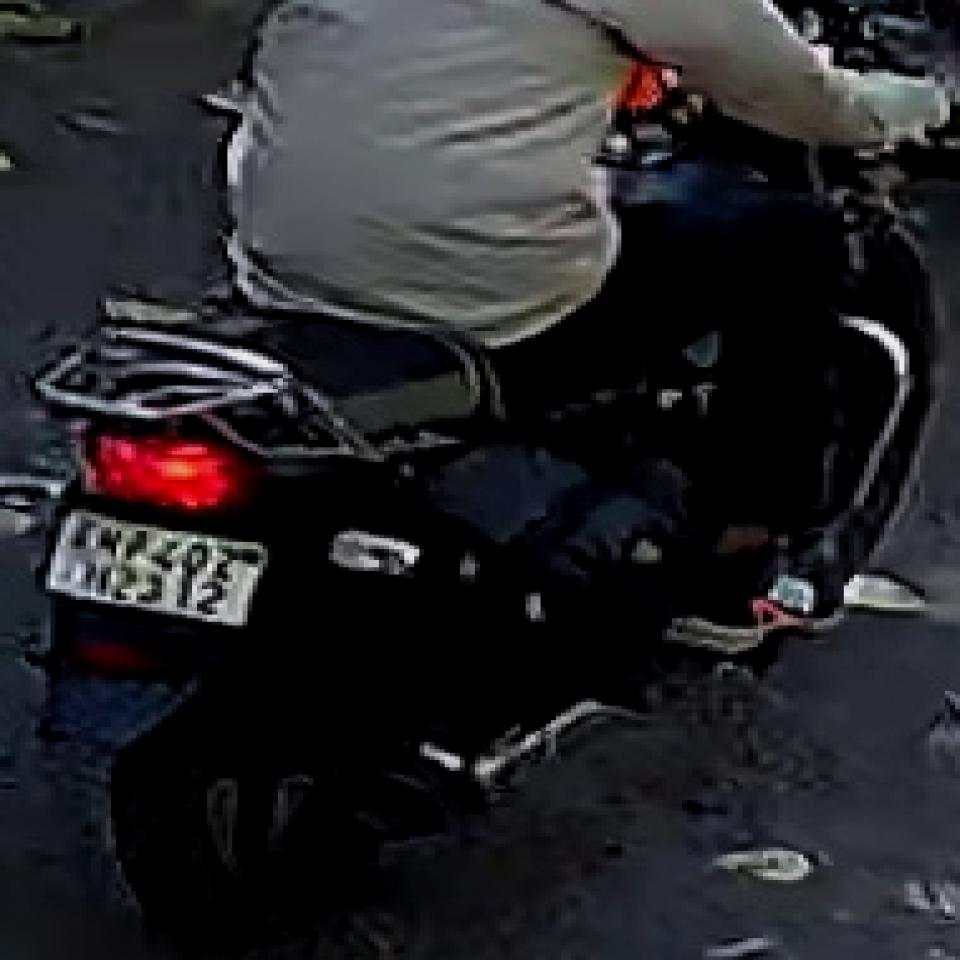tail_light: (77, 426, 242, 514)
